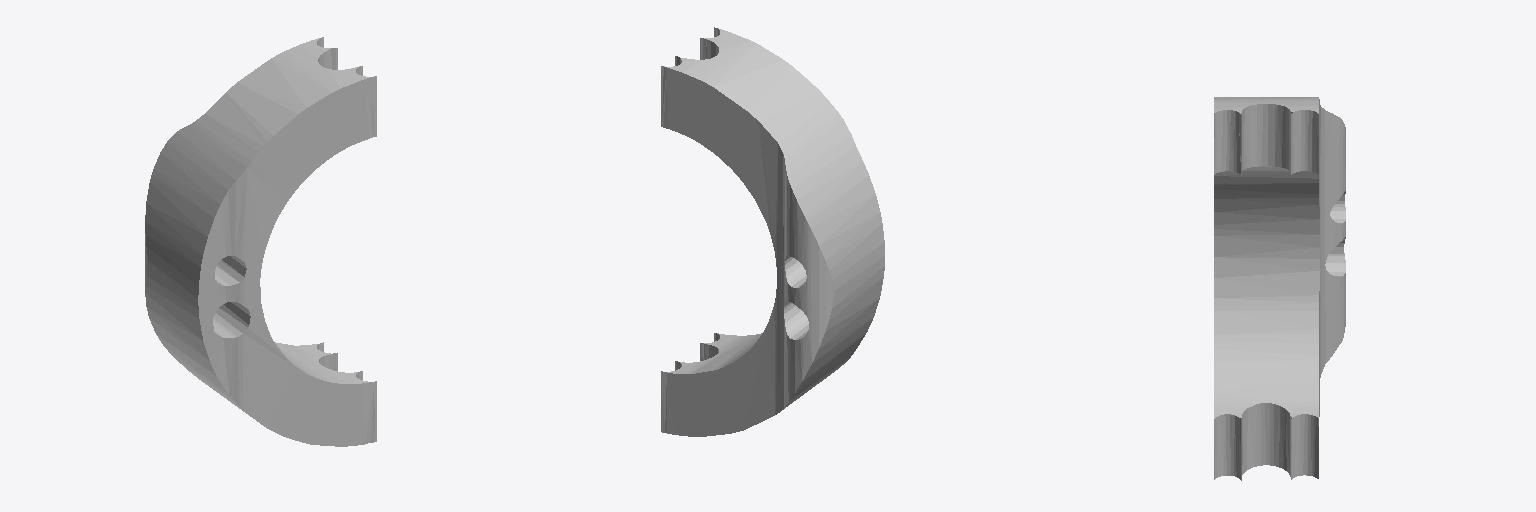
The model's file is seg19.OBJ.
The picture shows the model from 3 angles: view 1: azimuth 30°, elevation 25°; view 2: azimuth 150°, elevation 25°; view 3: azimuth 270°, elevation 25°; orthographic projection.
Parts seen in each view (by area): view 1: /ambf/env/seg19_seg19; view 2: /ambf/env/seg19_seg19; view 3: /ambf/env/seg19_seg19.
Part boxes in pixels (x1,y1,x2,y2): /ambf/env/seg19_seg19: (145,37,376,446); /ambf/env/seg19_seg19: (661,27,884,436); /ambf/env/seg19_seg19: (1214,97,1345,480).
Size of the model in its own units: 0.003 by 0.006 by 0.002.